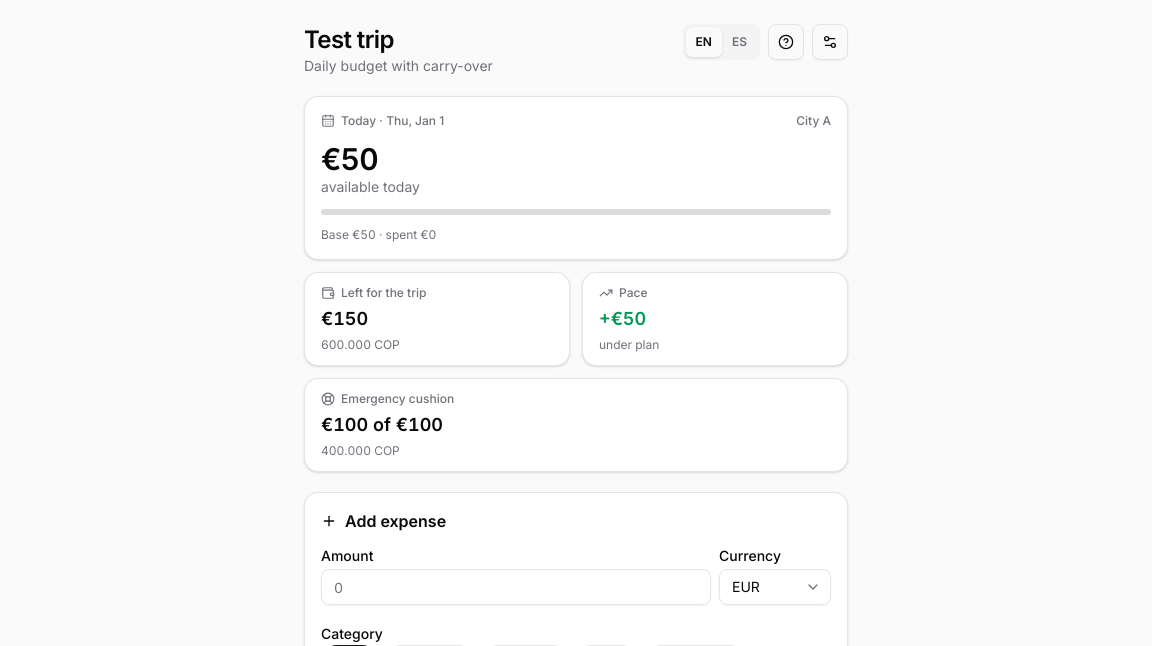
Test: live exchange rates in the app › updates rates on demand and reports currencies without a live rate
Click the button named "Trip settings": (830, 42) [812, 24, 848, 60]
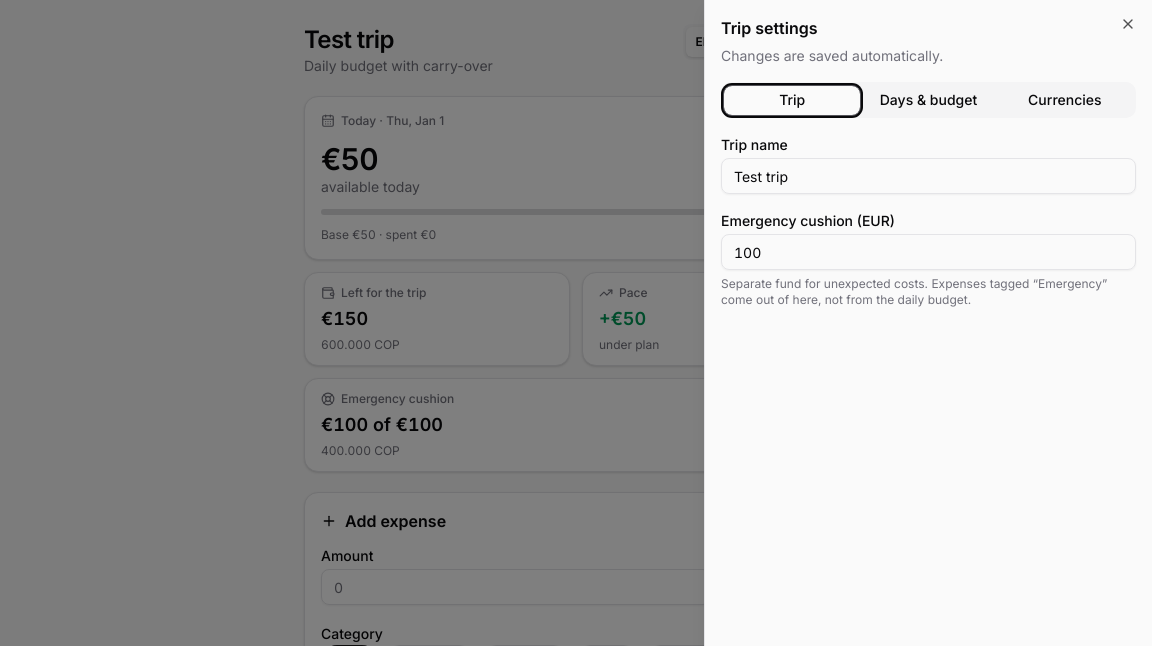
Click the tab "Currencies": (1065, 100) [997, 86, 1133, 114]
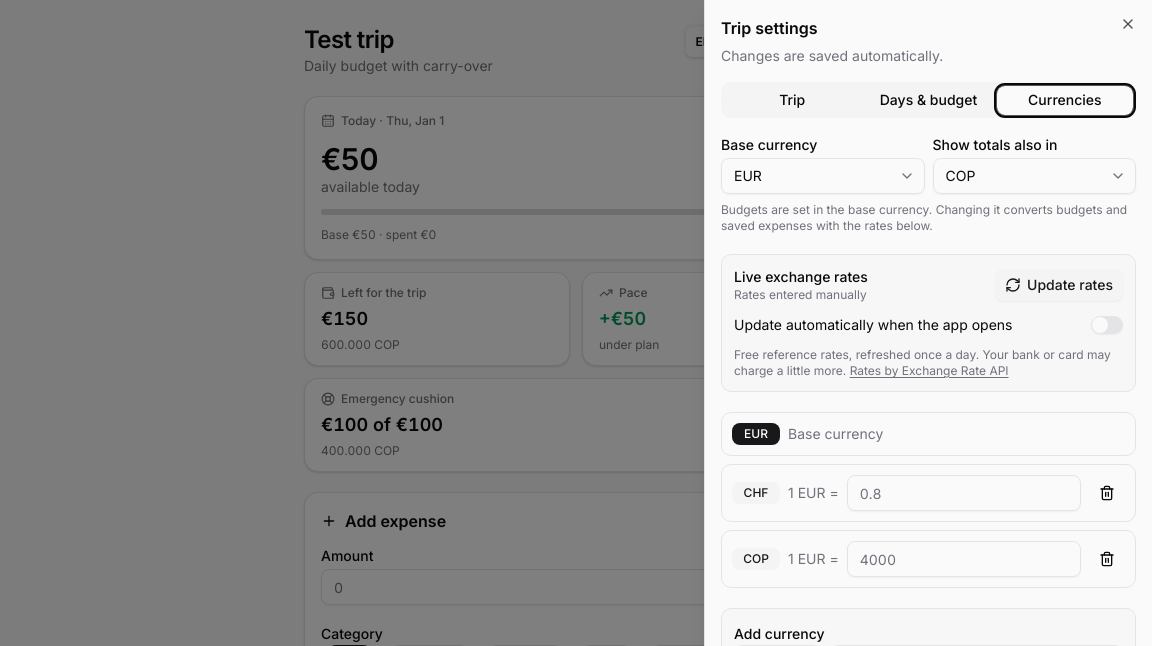
Click the button "Update rates": (1059, 285) [995, 269, 1123, 301]
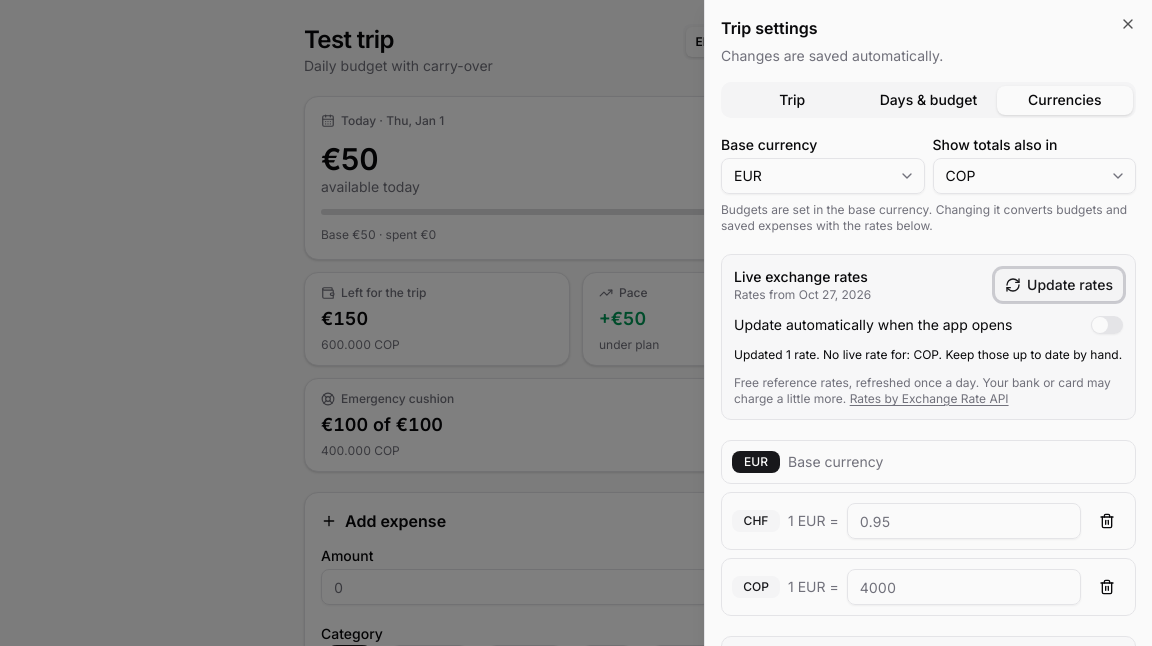
Check: the text "Updated 1 rate. No live rate for: COP. Keep those up to date by hand." is shown, box [734, 347, 1123, 363]
Check: the number field named "CHF per EUR" holds "0.95", box [847, 503, 1081, 539]
